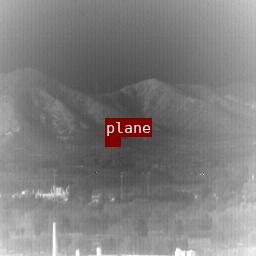plane: (105, 137, 120, 146)
